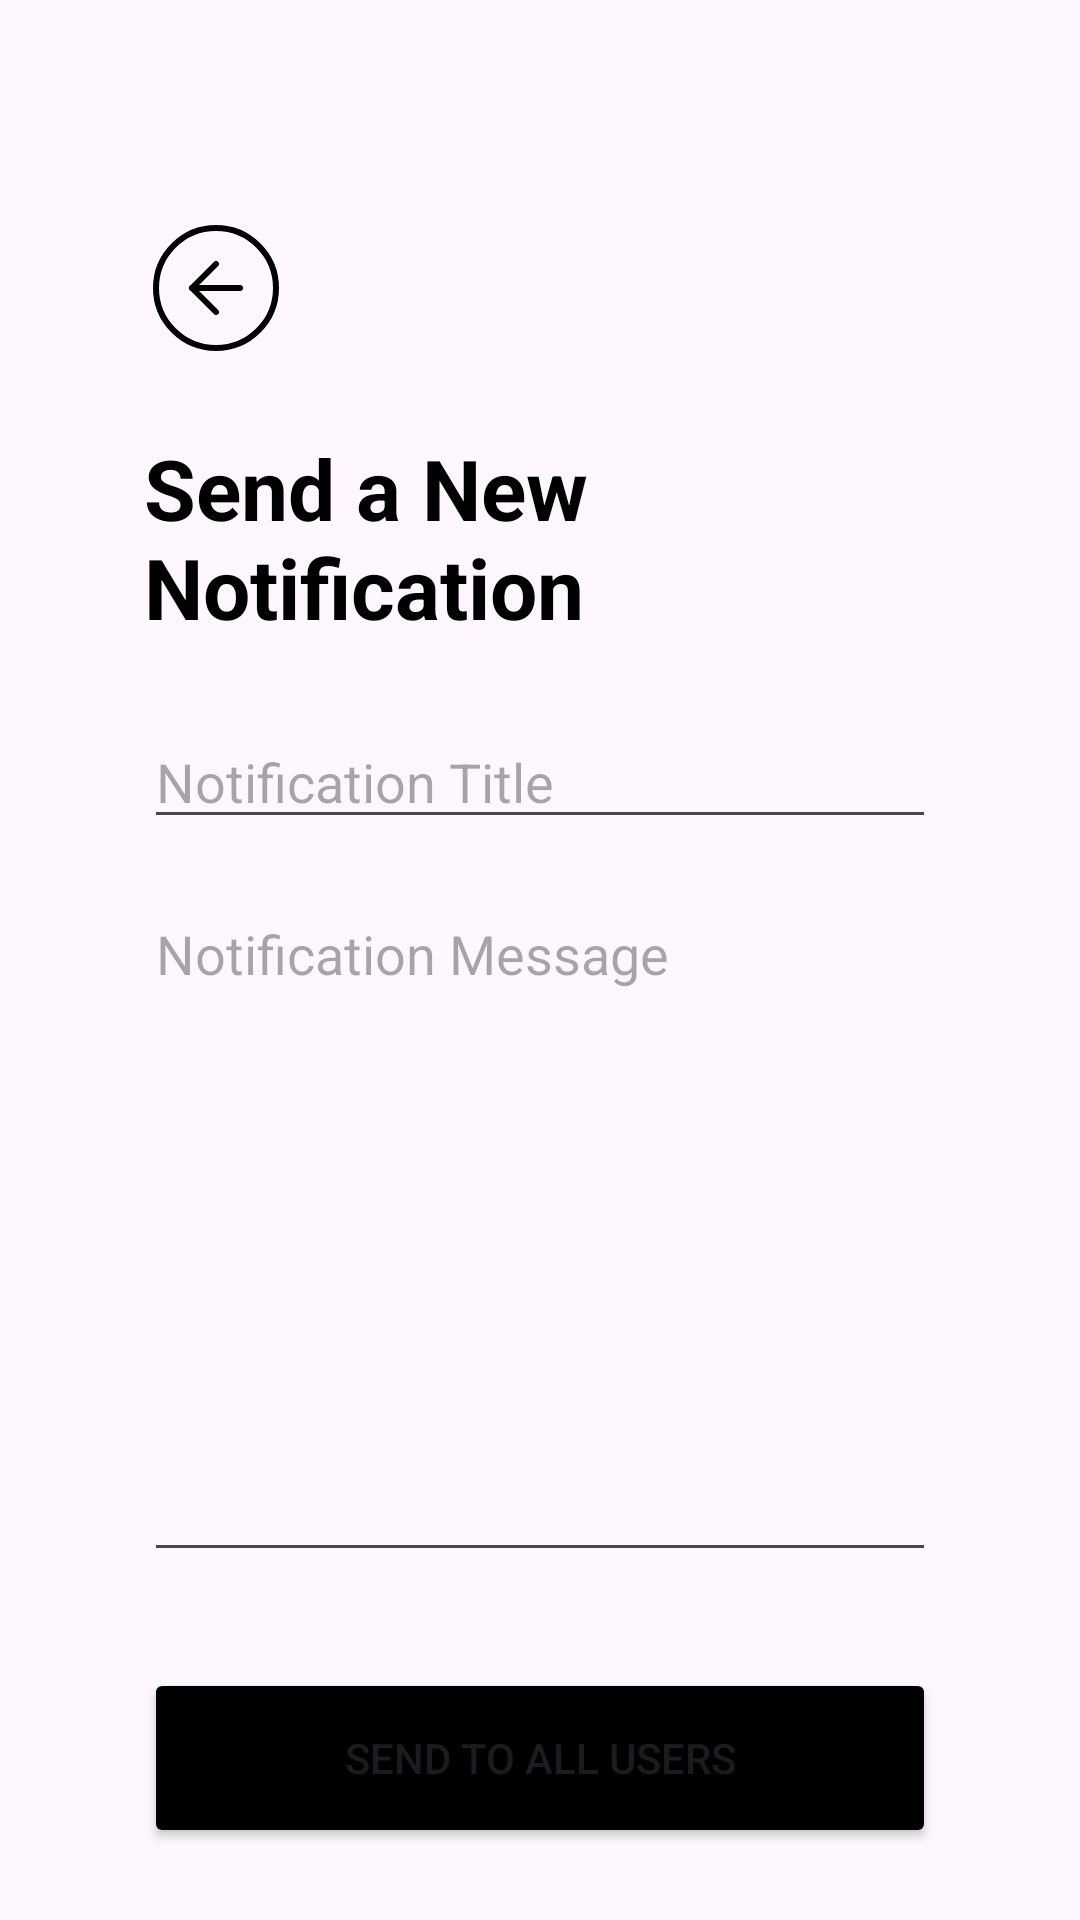

Icons on this 1080w x 1920h Android screen, each with its box as (x1, y1, x2, y2):
arrow left circle: (153, 225, 279, 351)
